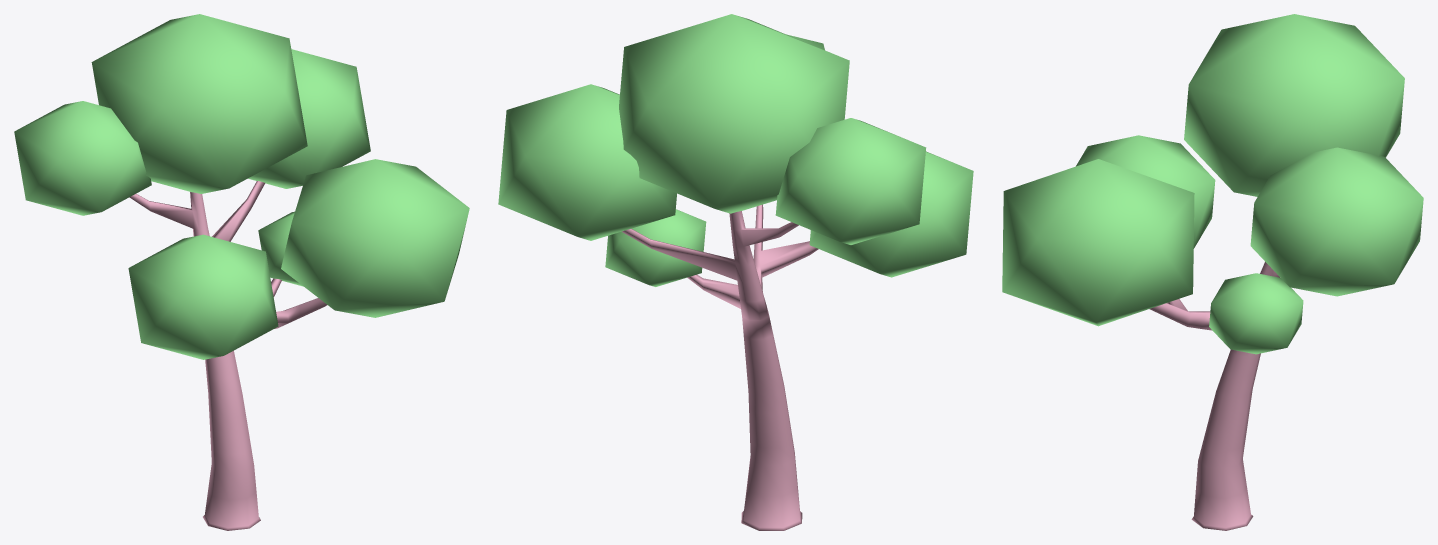
The model's file is ENV_Tree01.fbx.
3 renders of one model, left to right at view 1: azimuth 30°, elevation 25°; view 2: azimuth 150°, elevation 25°; view 3: azimuth 270°, elevation 25°, orthographic. The views are drawn at different scales.
Visible parts, largest first — view 1: Cylinder.004; view 2: Cylinder.004; view 3: Cylinder.004.
Boxes of the visible parts, x1,y1,x2,y2 form: Cylinder.004: (14, 14, 469, 530); Cylinder.004: (498, 14, 973, 530); Cylinder.004: (1002, 14, 1423, 530).
Size of the model in its own units: 467 by 474 by 618.
